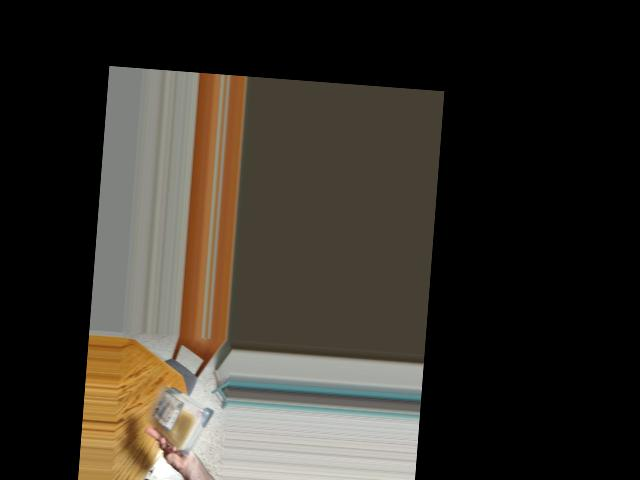cheese: (149, 387, 203, 451)
